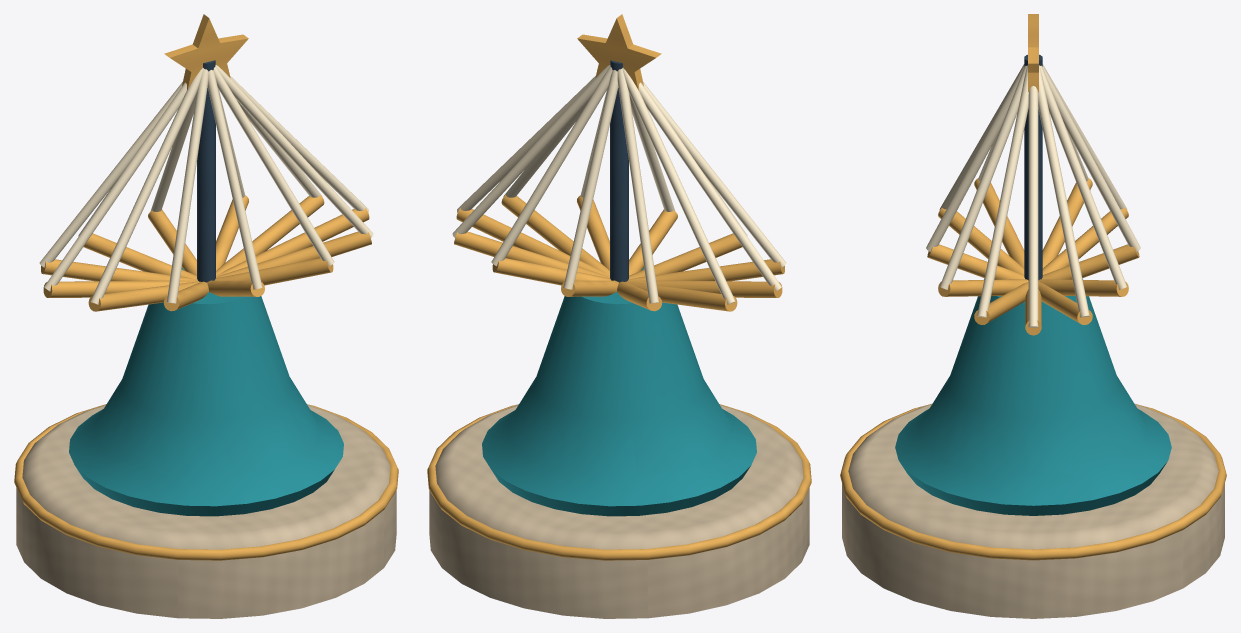
The model's file is desert_drift.glb.
3 views of the same model, side by side, from view 1: azimuth 30°, elevation 25°; view 2: azimuth 150°, elevation 25°; view 3: azimuth 270°, elevation 25° (orthographic).
Parts seen in each view (by area): view 1: desert_drift_lod0; view 2: desert_drift_lod0; view 3: desert_drift_lod0.
Boxes of the visible parts, x1,y1,x2,y2 form: desert_drift_lod0: (14,14,398,618); desert_drift_lod0: (427,14,811,618); desert_drift_lod0: (840,14,1226,618).
Size of what is drawn, in the model's own units: 6.57 by 9.82 by 6.57.
Materials: 5 (5 with a texture image).
